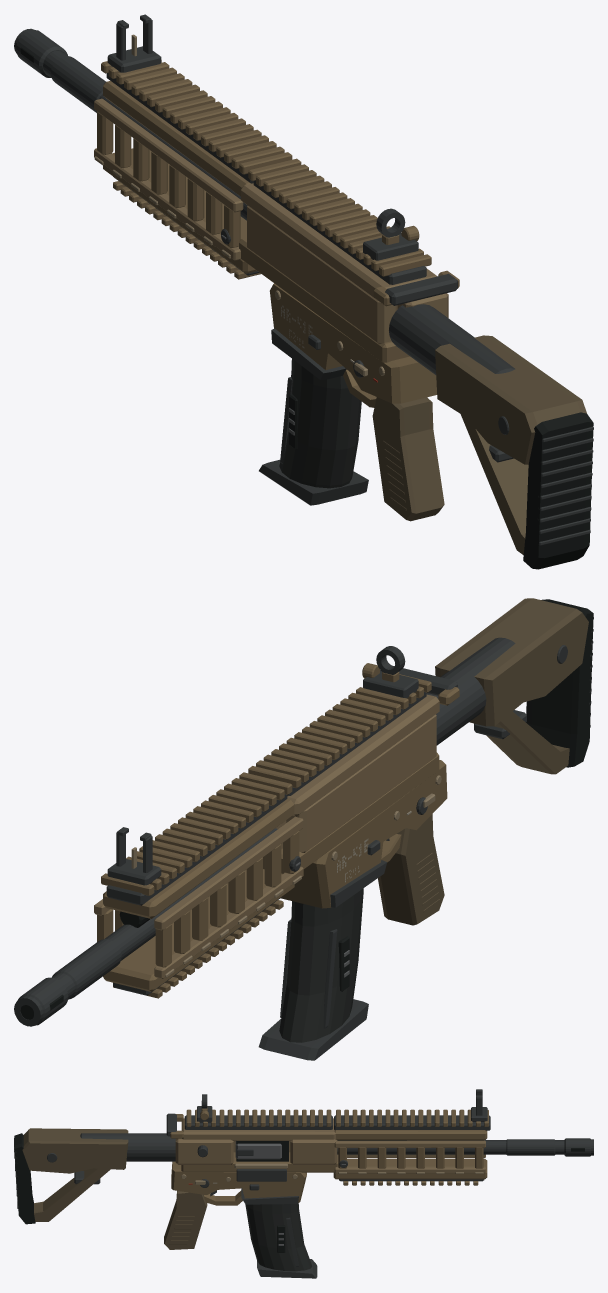
The picture shows the model from 3 angles, top to bottom: view 1: azimuth 30°, elevation 25°; view 2: azimuth 150°, elevation 25°; view 3: azimuth 270°, elevation 25°; orthographic projection. The views are drawn at different scales.
Visible parts, largest first — view 1: Receiver, Stock, Handguard, MagazineBody, Grip, Barrel, Sights, Bolt; view 2: Receiver, Handguard, Stock, MagazineBody, Barrel, Grip, Sights, Bolt; view 3: Receiver, Handguard, Stock, MagazineBody, Barrel, Grip, Bolt, Sights.
Part boxes in pixels (<box>): Receiver: <box>239,158,448,407</box>; Stock: <box>389,304,593,569</box>; Handguard: <box>94,60,292,279</box>; MagazineBody: <box>259,359,368,505</box>; Grip: <box>372,397,444,521</box>; Barrel: <box>14,28,247,220</box>; Sights: <box>107,14,419,260</box>; Bolt: <box>373,270,459,306</box>; Receiver: <box>248,674,447,908</box>; Handguard: <box>94,772,303,998</box>; Stock: <box>426,598,593,774</box>; MagazineBody: <box>258,888,368,1060</box>; Barrel: <box>14,828,277,1026</box>; Grip: <box>378,814,444,925</box>; Sights: <box>107,646,418,885</box>; Bolt: <box>399,668,459,705</box>; Receiver: <box>171,1109,338,1205</box>; Handguard: <box>333,1109,490,1185</box>; Stock: <box>14,1128,175,1224</box>; MagazineBody: <box>245,1203,317,1278</box>; Barrel: <box>337,1138,593,1156</box>; Grip: <box>164,1191,207,1249</box>; Bolt: <box>166,1113,281,1159</box>; Sights: <box>197,1089,487,1122</box>.
Bounding box in the file's own units: 0.1185 × 0.4548 × 1.34.
